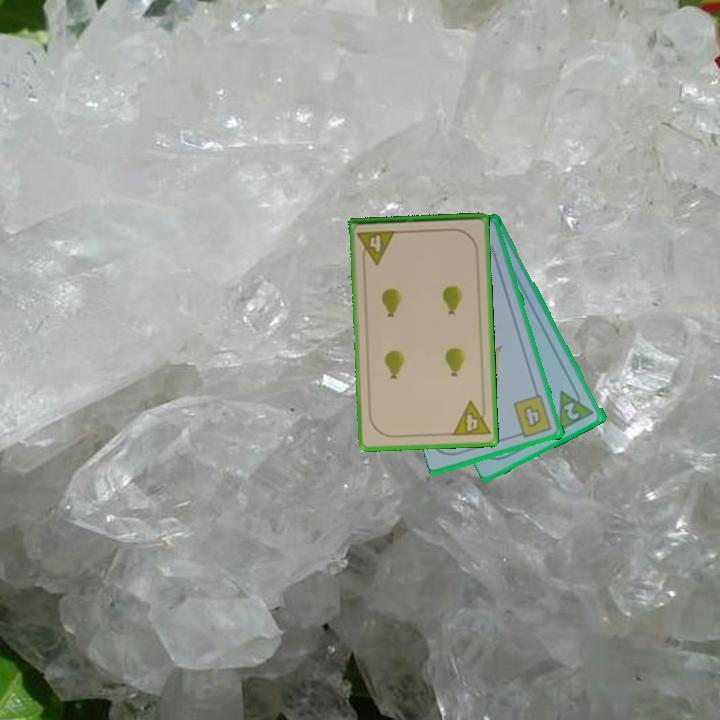2p: (555, 382, 597, 433)
4b: (510, 392, 555, 441)
4p: (449, 397, 493, 439), (354, 227, 399, 267)
